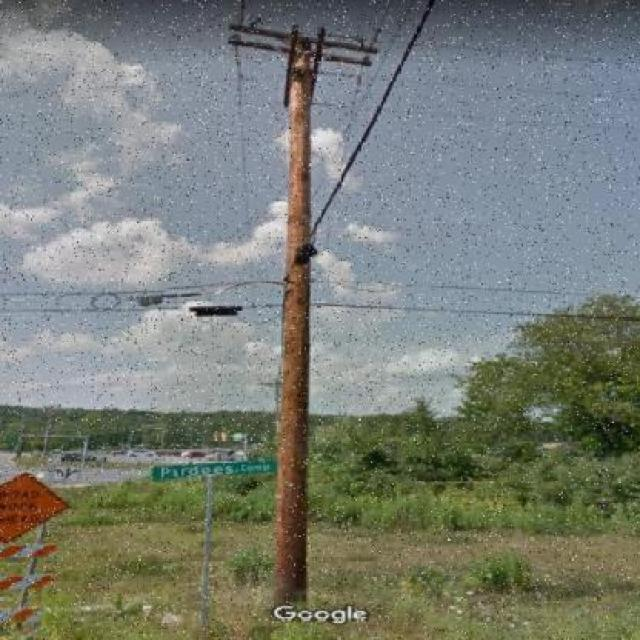pole: (214, 1, 381, 618)
